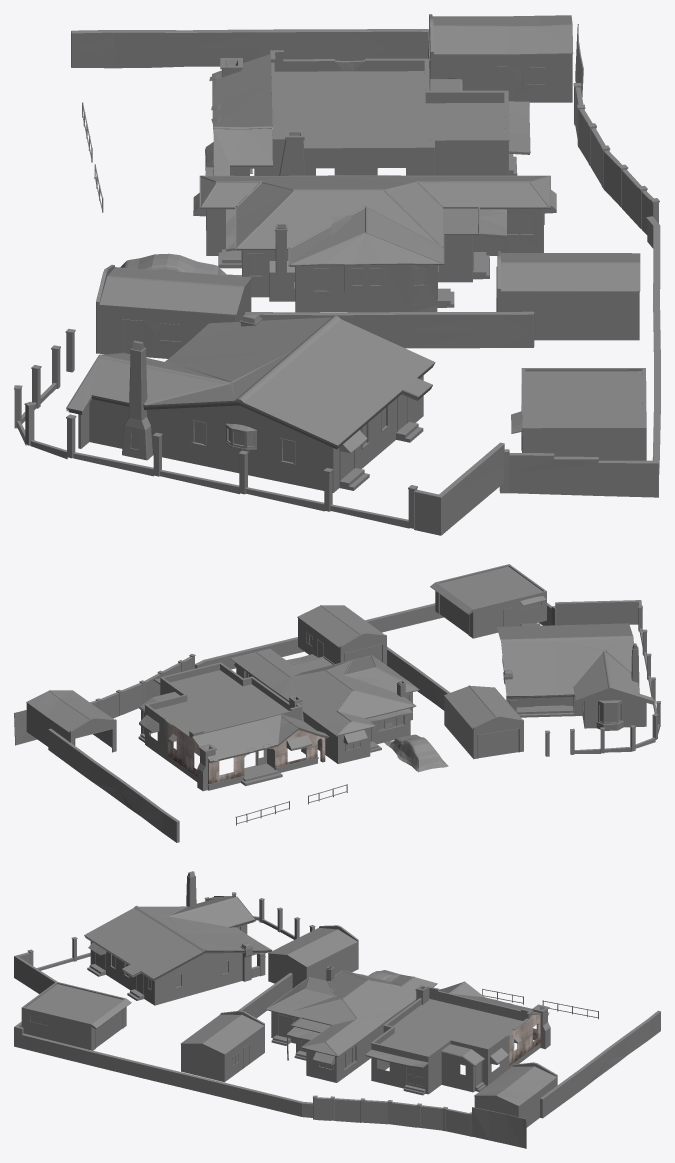
The model's file is house_fra.FBX.
3 renders of one model, top to bottom at view 1: azimuth 30°, elevation 25°; view 2: azimuth 150°, elevation 25°; view 3: azimuth 270°, elevation 25°, orthographic. The views are drawn at different scales.
Visible parts, largest first — view 1: default; view 2: default; view 3: default.
Part boxes in pixels (x1,y1,x2,y2): default: [14, 14, 660, 535]; default: [14, 564, 660, 842]; default: [14, 871, 660, 1148].
Size of the model in its own units: 52.64 by 64.2 by 8.12.
Materials: 12 (1 with a texture image).
